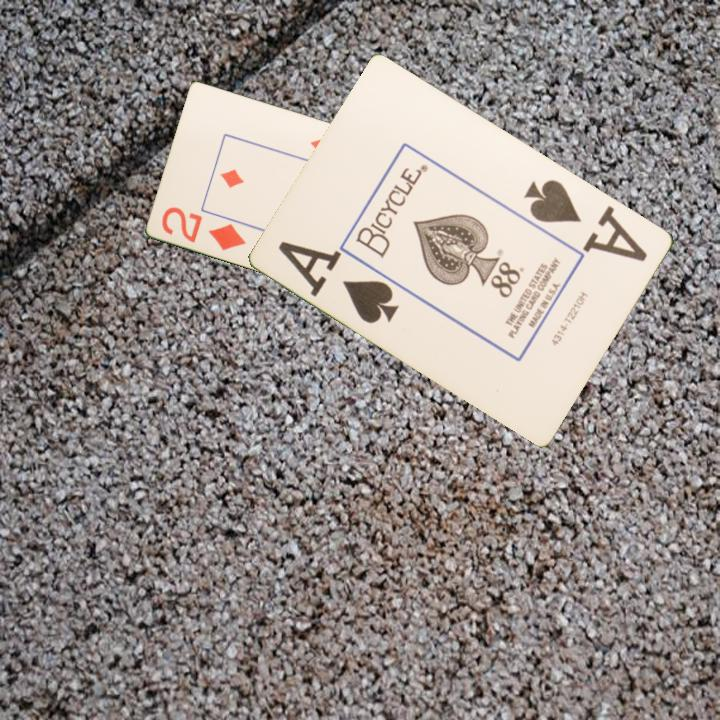2d: (158, 203, 249, 254)
As: (275, 237, 403, 327), (521, 175, 639, 255)
